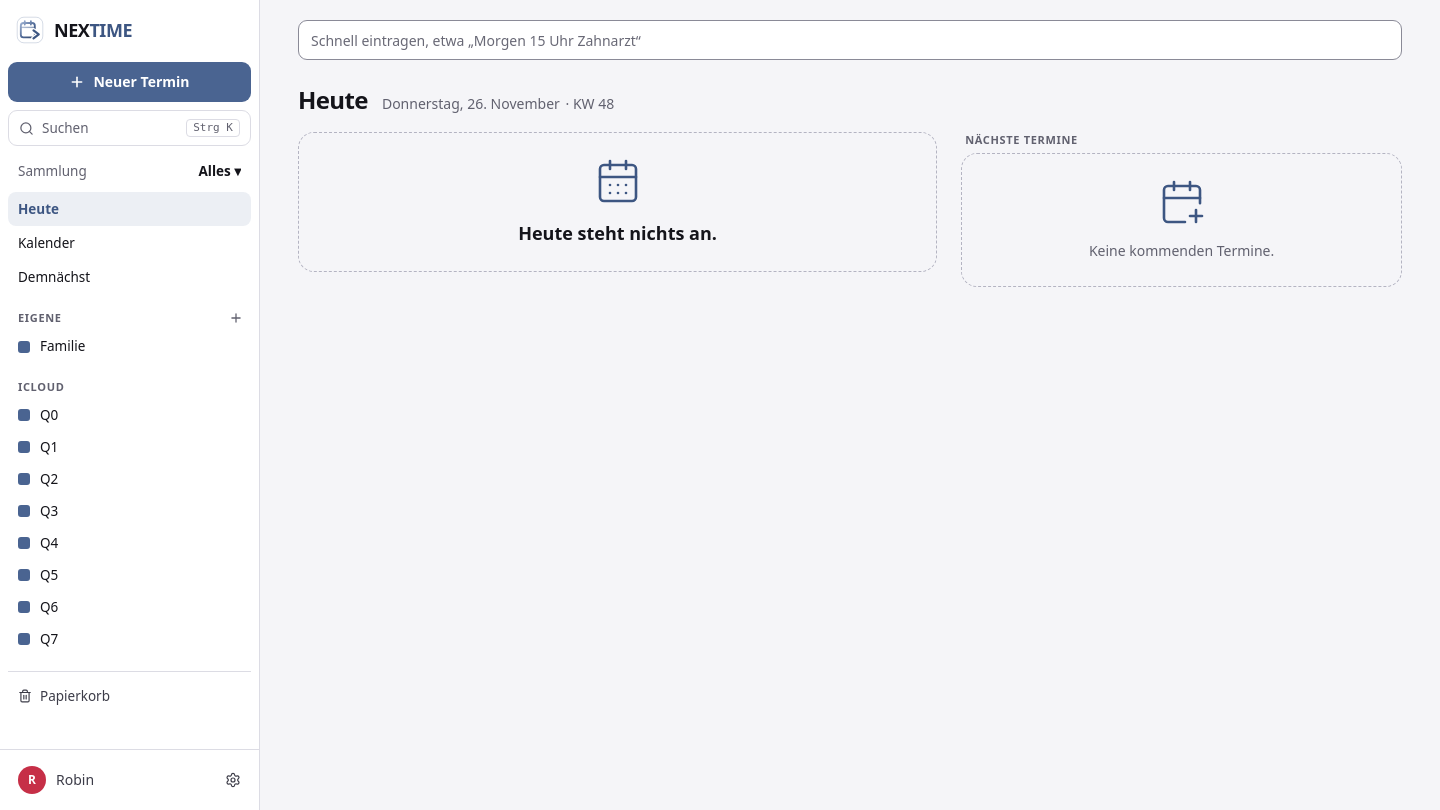
TIME-15 "Kalender hinzufügen" › TIME-15 AC-7 shows the seven ways with a sentence and a mark each, and no count up to 20 calendars from all sources
Click the button named "Kalender hinzufügen" at (236, 318), box [225,307,247,329]
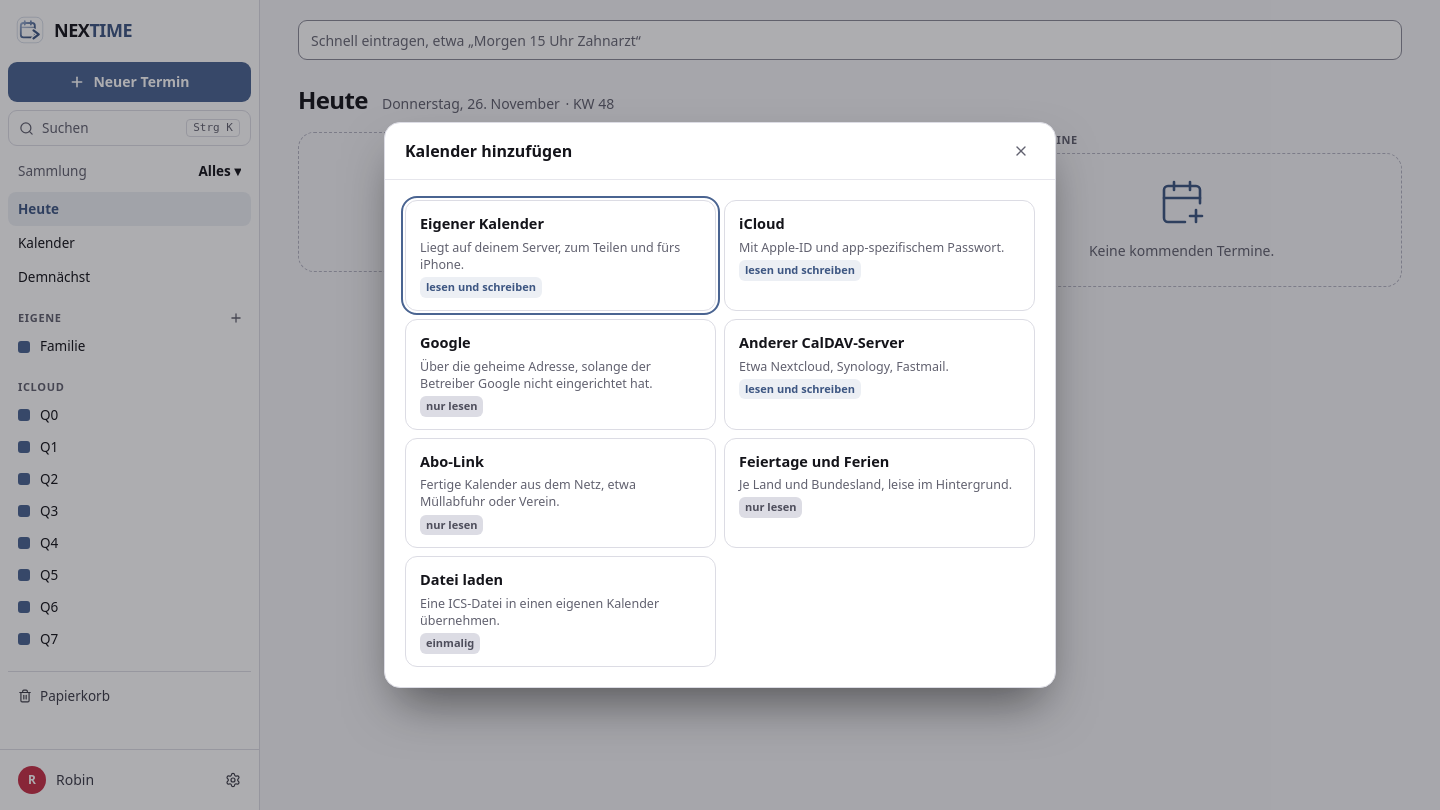
Now the button with test id "way-" is enabled, box [405,556,716,667]
